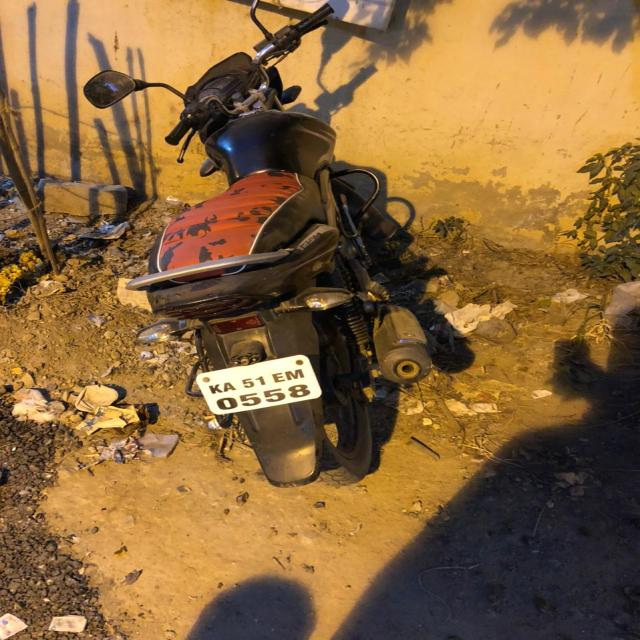license_plate: (194, 354, 322, 414)
